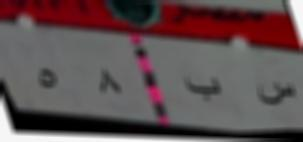5: (32, 63, 60, 96)
8: (95, 66, 124, 100)
baa: (181, 73, 224, 106)
seen: (252, 72, 298, 110)
